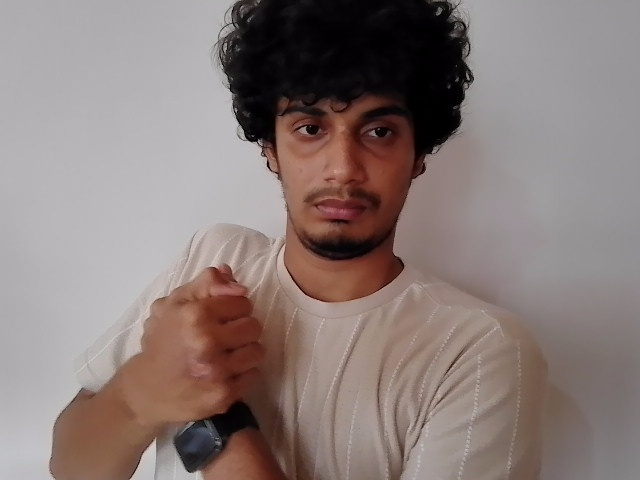love: (140, 267, 270, 429)
